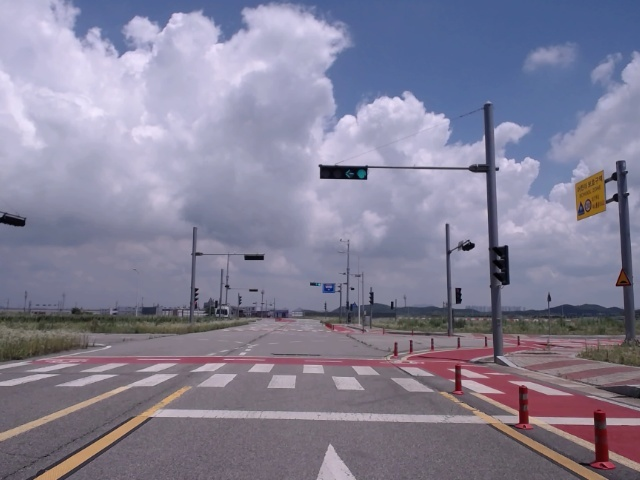all_green_4: (319, 165, 369, 179)
